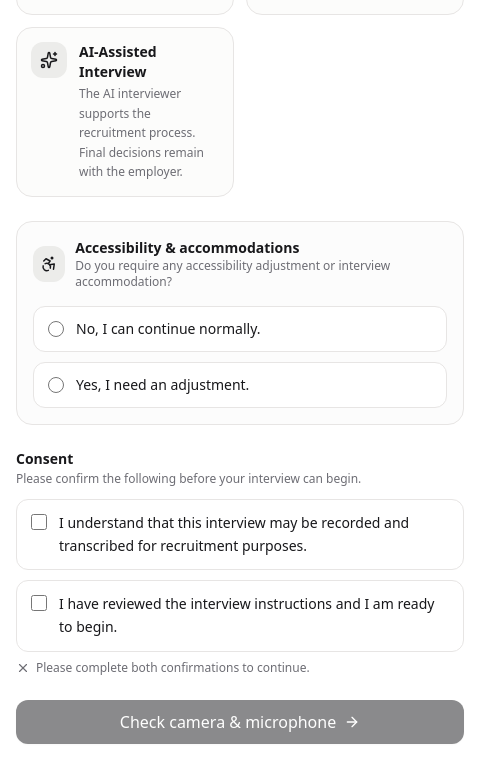
Test: Interview preparation page › reveals the accommodation text field when an adjustment is needed
This screenshot has width=481, height=766.
(page scrolled)
expect the field labelled "adjustment would help you" is not shown: met
Step 1. Click the radio button labelled "Yes, I need an adjustment." → (56,385), box [48,377,64,393]
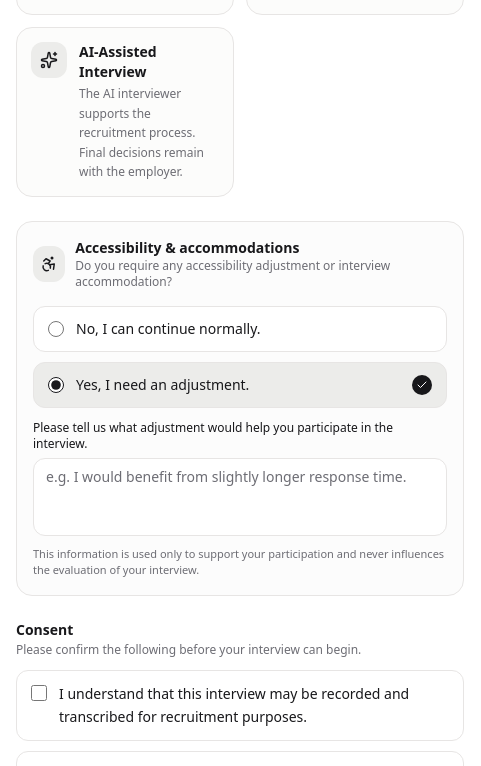
expect the text box labelled "adjustment would help you" is shown: met, box [33,458,447,536]
